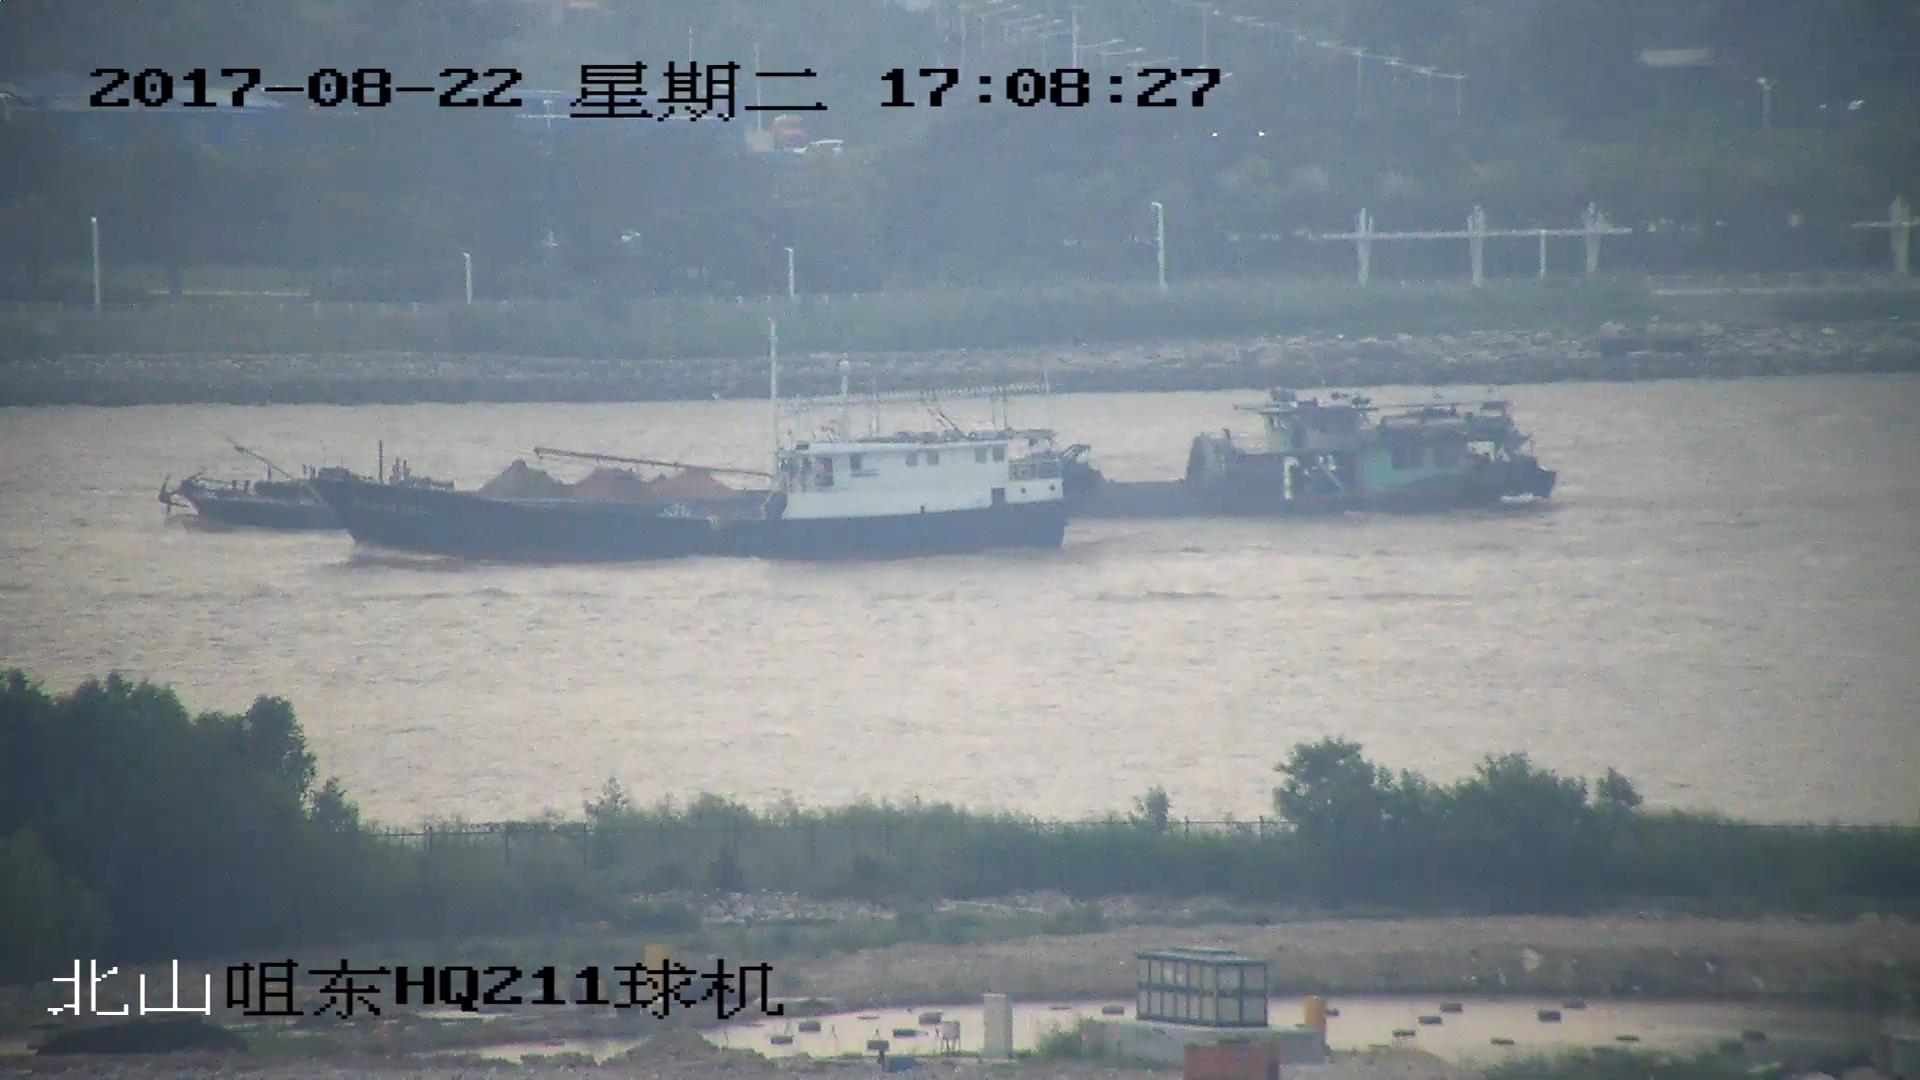fishing boat: (312, 388, 1067, 561)
ore carrier: (155, 397, 1553, 529)
